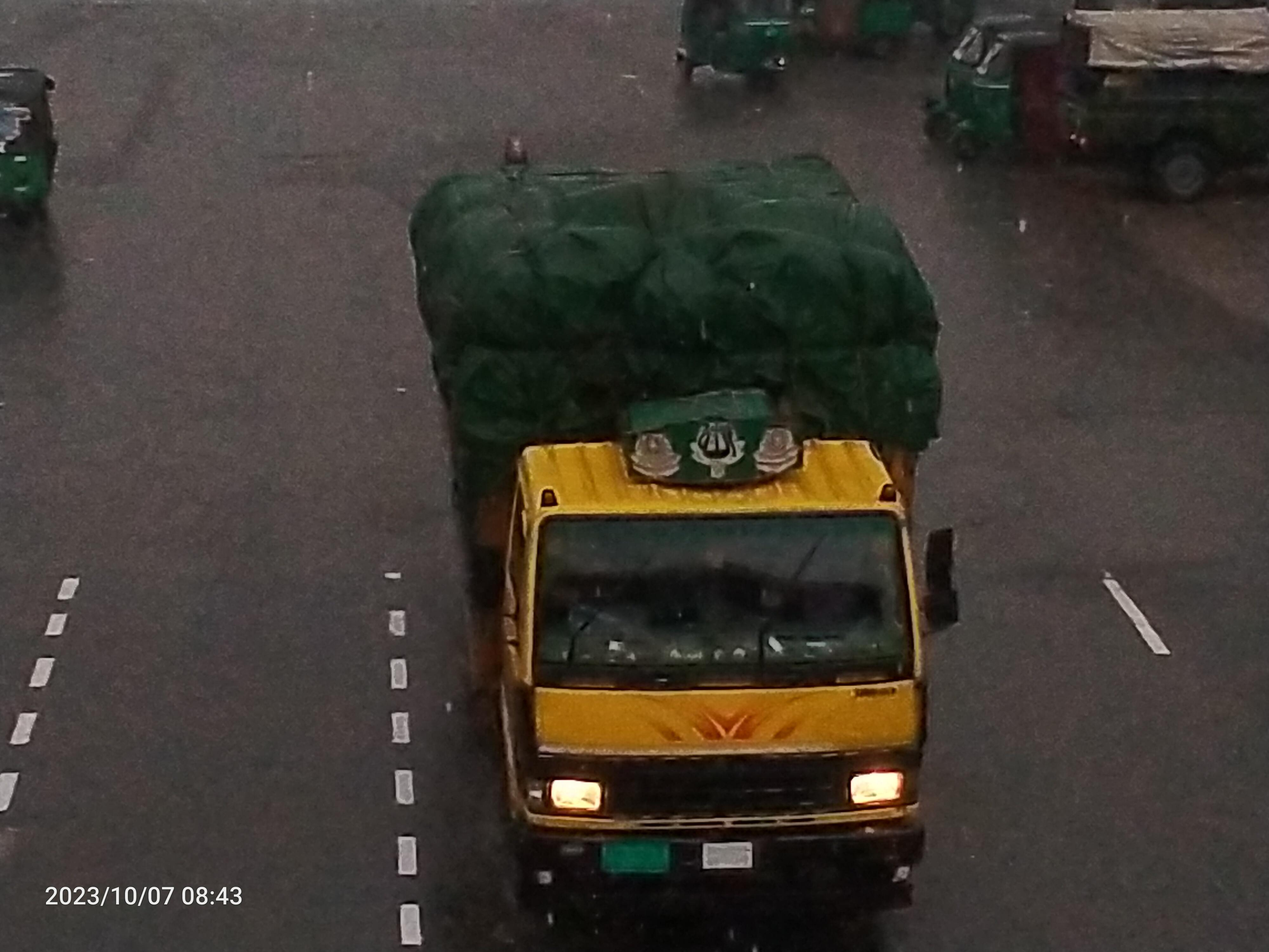Truck: (355, 113, 1014, 924), (1057, 0, 1269, 210)
